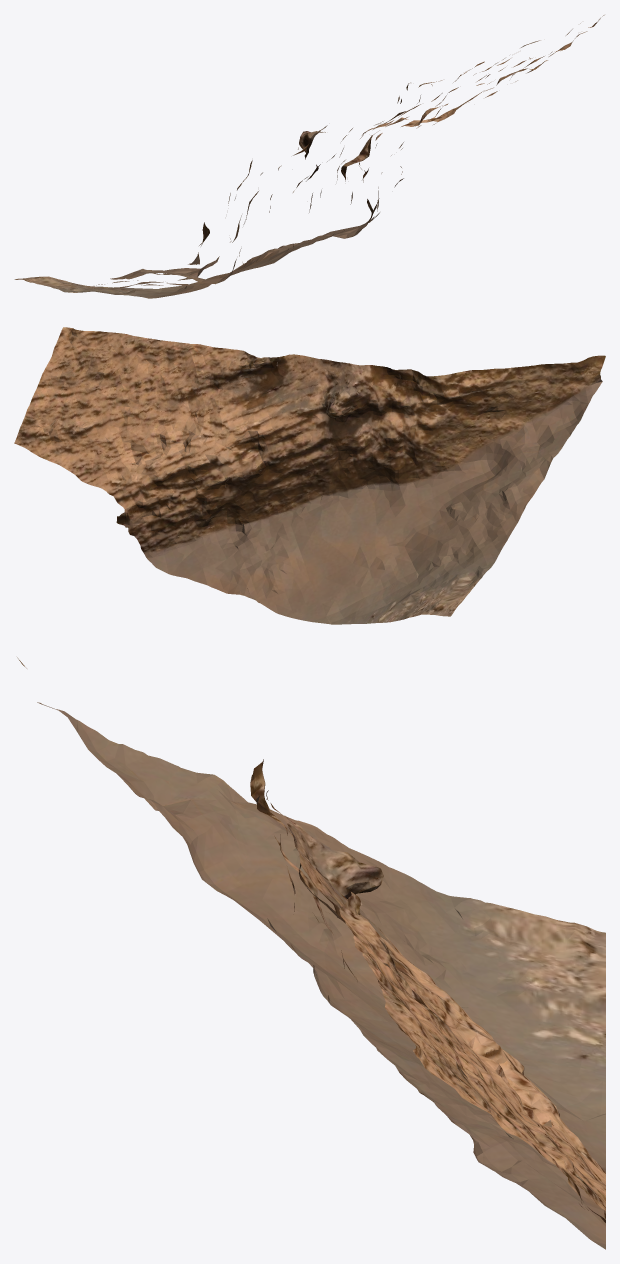
3 views of the same model, one above another, from view 1: azimuth 30°, elevation 25°; view 2: azimuth 150°, elevation 25°; view 3: azimuth 270°, elevation 25° (orthographic). The views are drawn at different scales.
Size of the model in its own units: 1.04 by 0.4276 by 0.6448.
Materials: 2 (2 with a texture image).
